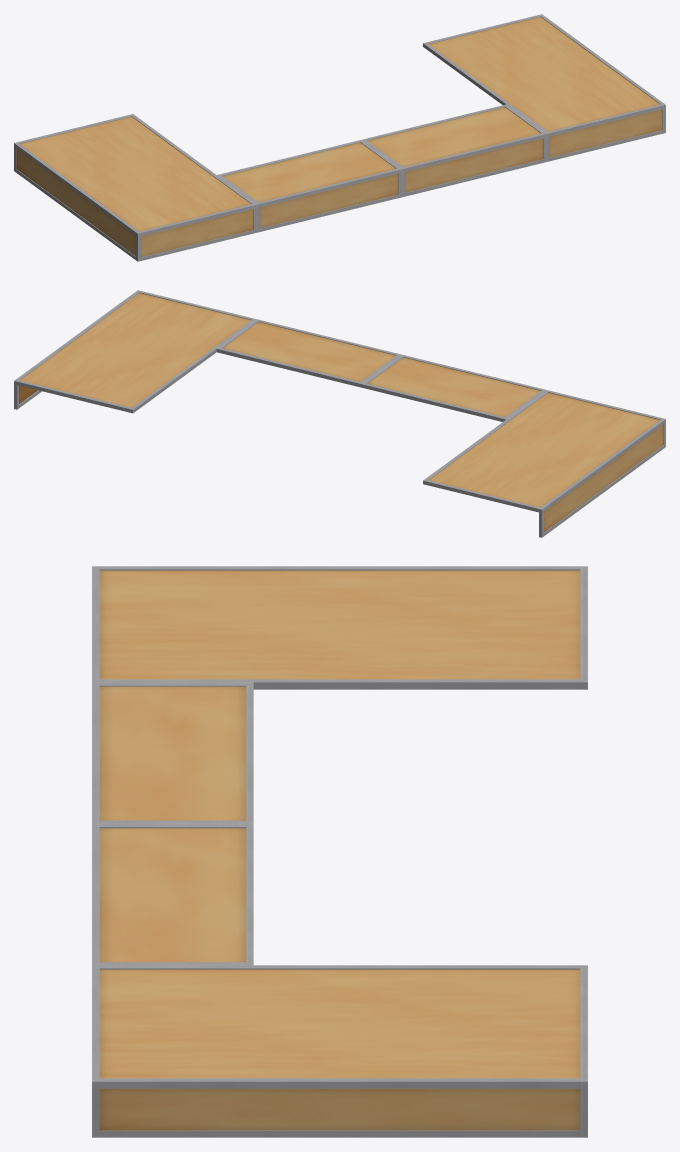
File: jsf_2P_s02_c05_t03_DX.fbx
The picture shows the model from 3 angles, top to bottom: view 1: azimuth 30°, elevation 25°; view 2: azimuth 150°, elevation 25°; view 3: azimuth 270°, elevation 25°; orthographic projection. The views are drawn at different scales.
Visible parts, largest first — view 1: jsf_2P_s02_c05_t03_DX; view 2: jsf_2P_s02_c05_t03_DX; view 3: jsf_2P_s02_c05_t03_DX.
Boxes of the visible parts, <box> form: jsf_2P_s02_c05_t03_DX: <box>14,14,665,261</box>; jsf_2P_s02_c05_t03_DX: <box>14,290,665,537</box>; jsf_2P_s02_c05_t03_DX: <box>92,566,587,1137</box>.
Bounding box in the file's own units: 246 × 12.51 × 100.
